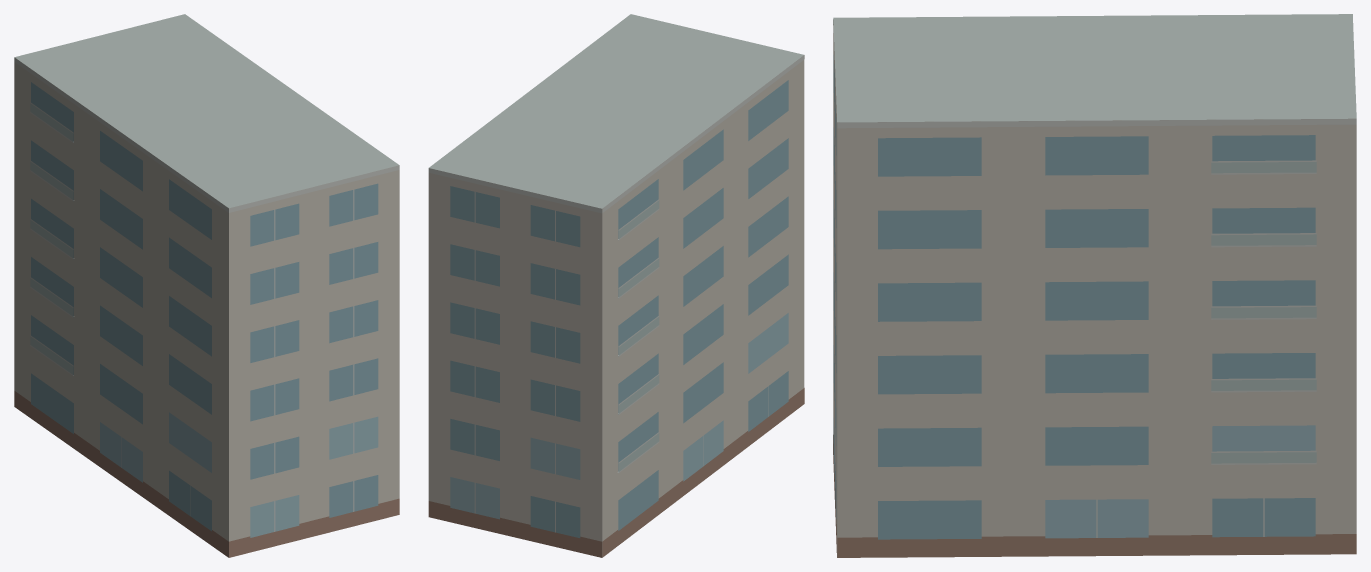
The model's file is survey-upis-32604561.glb.
3 views of the same model, side by side, from view 1: azimuth 30°, elevation 25°; view 2: azimuth 150°, elevation 25°; view 3: azimuth 270°, elevation 25° (orthographic). The views are drawn at different scales.
Visible parts, largest first — view 1: survey-upis-32604561.tmp; view 2: survey-upis-32604561.tmp; view 3: survey-upis-32604561.tmp.
Part boxes in pixels (bbox=[...]): survey-upis-32604561.tmp: bbox=[14, 14, 399, 557]; survey-upis-32604561.tmp: bbox=[428, 14, 804, 557]; survey-upis-32604561.tmp: bbox=[833, 14, 1356, 557].
Size of the model in its own units: 9.79 by 18.3 by 19.95.
